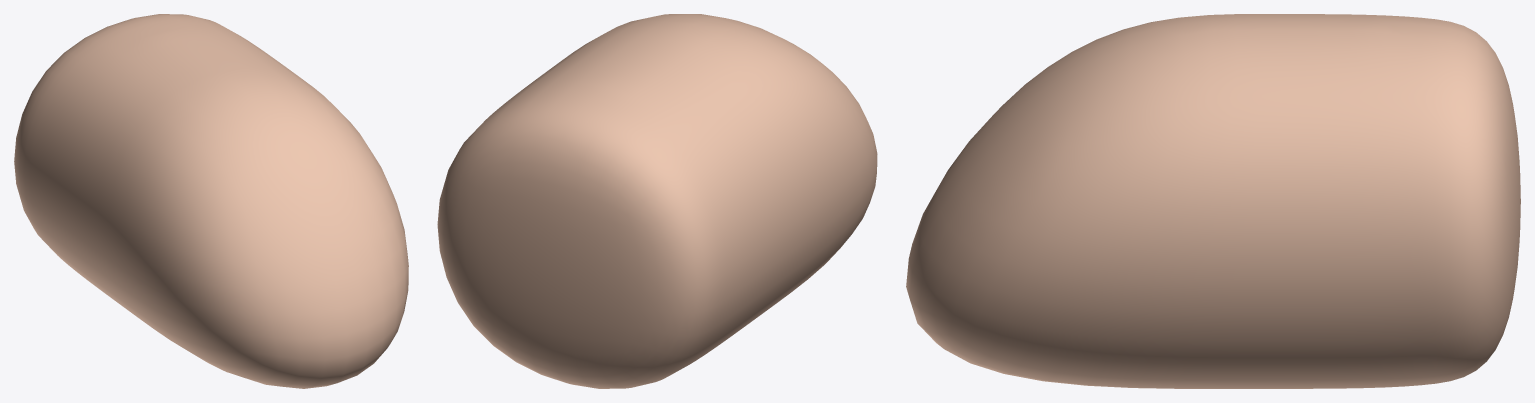
File: trainTest_1.gltf
3 renders of one model, left to right at view 1: azimuth 30°, elevation 25°; view 2: azimuth 150°, elevation 25°; view 3: azimuth 270°, elevation 25°, orthographic. The views are drawn at different scales.
Visible parts, largest first — view 1: Cube006; view 2: Cube006; view 3: Cube006.
Boxes of the visible parts, box(x1,y1,x2,y2) form: Cube006: box(14, 14, 408, 388); Cube006: box(437, 14, 877, 388); Cube006: box(906, 14, 1520, 388).
Size of the model in its own units: 1.86 by 1.86 by 3.08.
